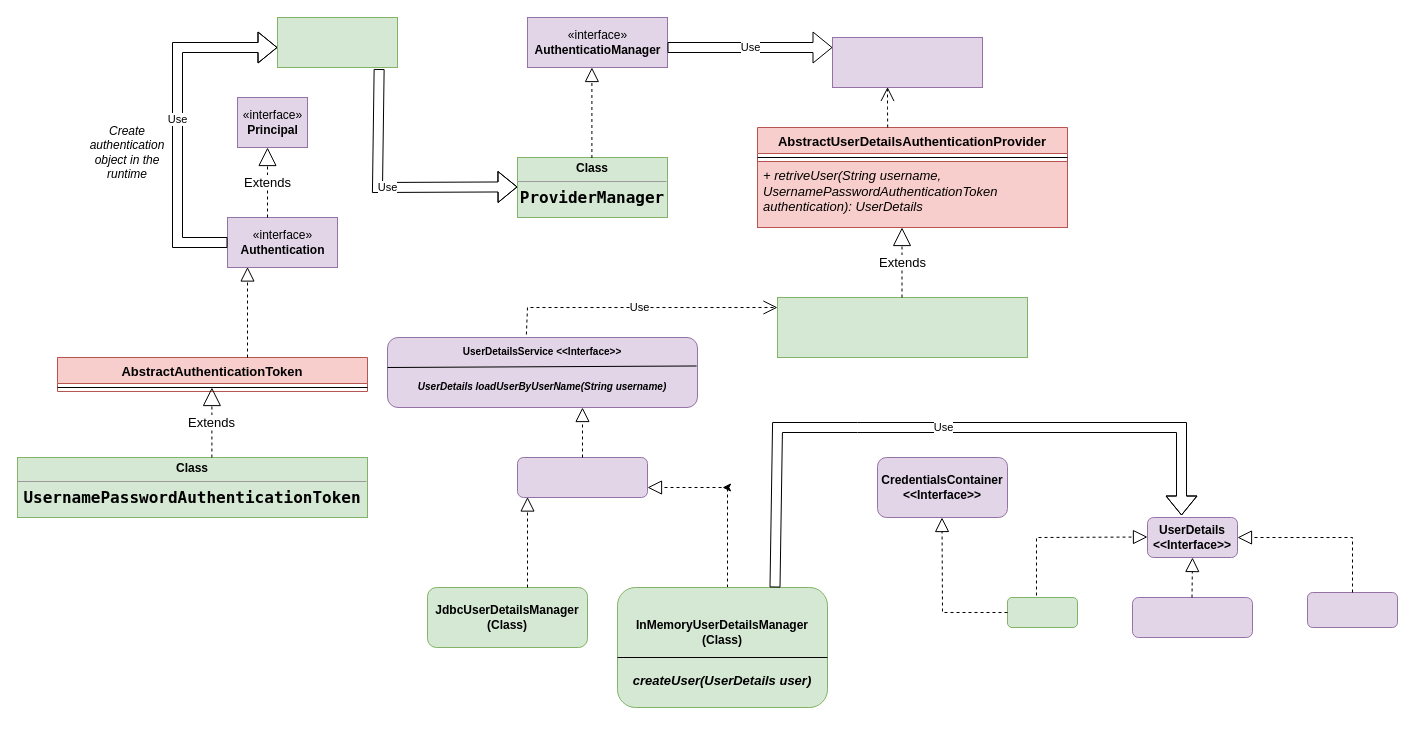
This 1415x733 diagram has some shape labels left out. The centre of each missing label's shape, as x and y in pixels:
"Class AuthenticationFilter" belongs at [337,42].
"Class DaoAuthenticationProvider" belongs at [902,327].
"MutableUserDetails <<Inteface>>" belongs at [1192,617].
"Token <<Interface>>" belongs at [1352,610].
"UserDetailsManager <<Interface>>" belongs at [582,477].
"Users (Class)" belongs at [1042,612].
"«interface» AuthenticationProvider" belongs at [907,62].
